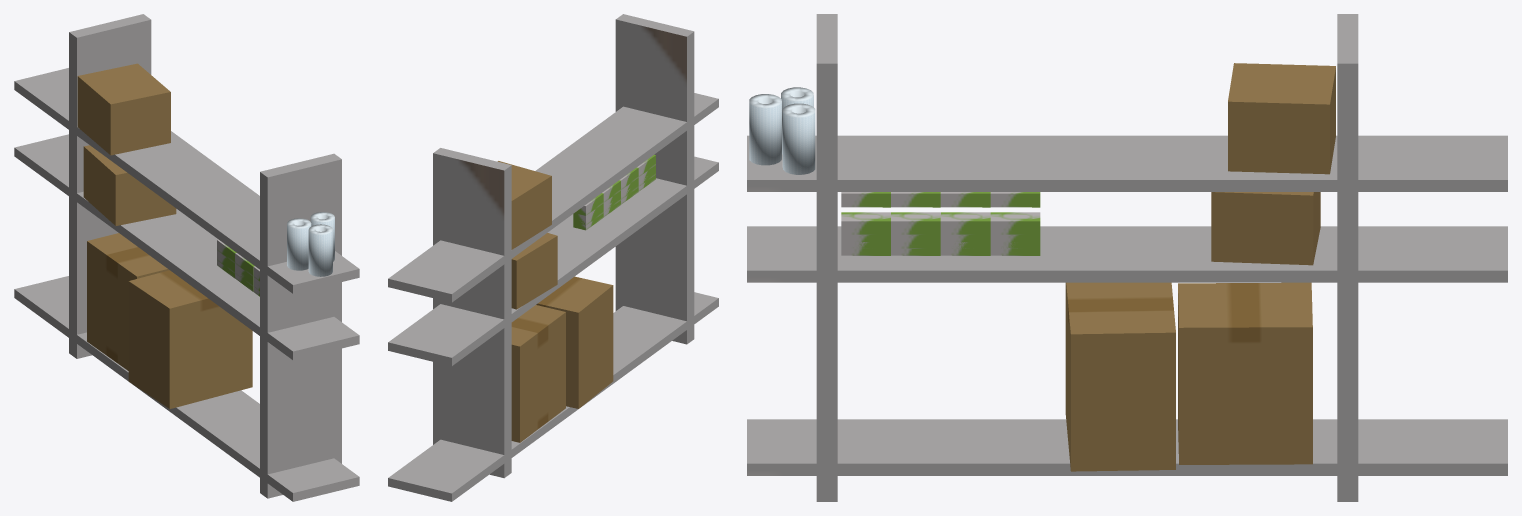
File: Pantry03.fbx
3 renders of one model, left to right at view 1: azimuth 30°, elevation 25°; view 2: azimuth 150°, elevation 25°; view 3: azimuth 270°, elevation 25°, orthographic. The views are drawn at different scales.
Parts seen in each view (by area): view 1: Cube.490; view 2: Cube.490; view 3: Cube.490.
Boxes of the visible parts, left/top/right/bottom form: Cube.490: left=14, top=14, right=359, bottom=501; Cube.490: left=388, top=14, right=718, bottom=501; Cube.490: left=747, top=14, right=1507, bottom=501.
Bounding box in the file's own units: 56.91 × 200 × 315.
